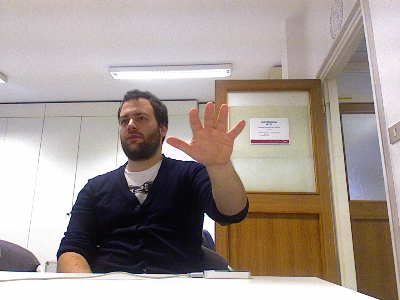布: (164, 101, 246, 166)
